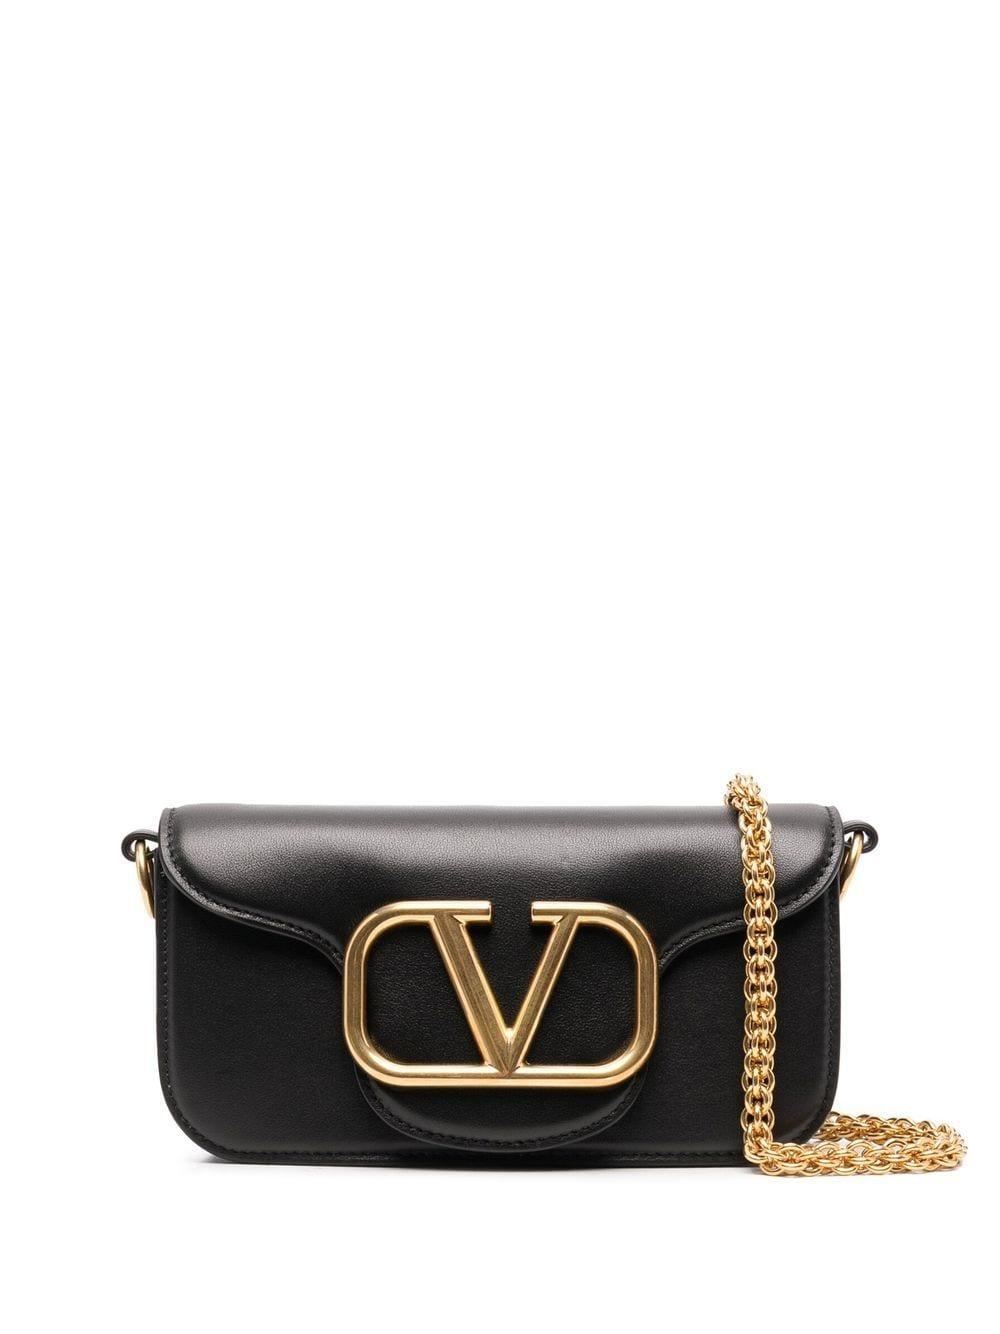VALENTINO: (345, 900, 658, 1087)
